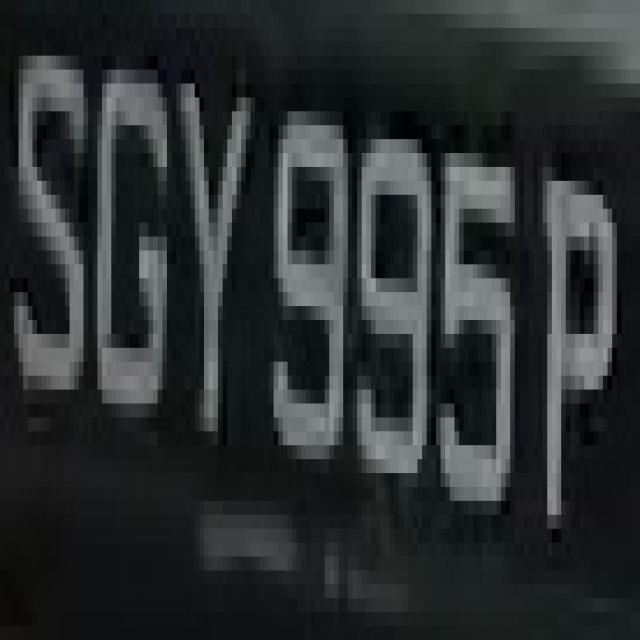5: (436, 125, 524, 543)
9: (264, 83, 357, 501), (357, 98, 436, 556)
G: (93, 28, 176, 445)
P: (533, 111, 626, 529)
S: (14, 14, 93, 431)
Y: (172, 42, 255, 445)
